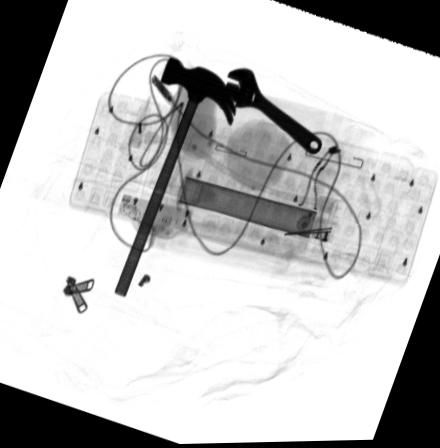Hammer: (114, 55, 236, 296)
Wrench: (219, 68, 322, 156)
